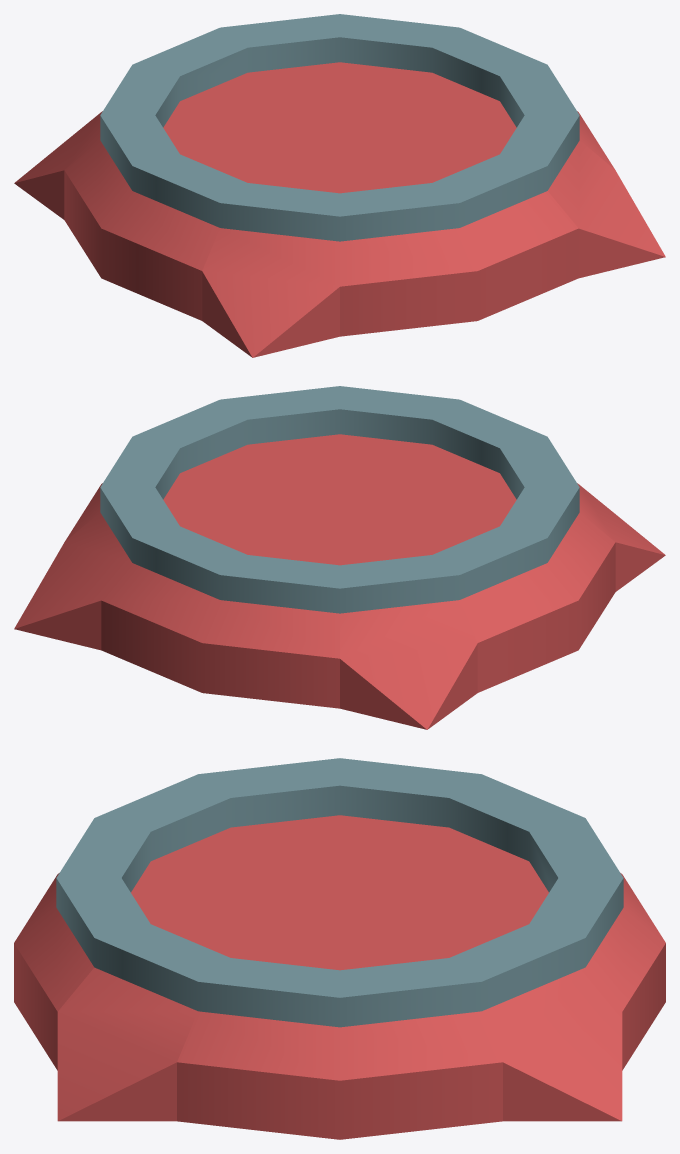
The model's file is TurretBase.fbx.
3 views of the same model, one above another, from view 1: azimuth 30°, elevation 25°; view 2: azimuth 150°, elevation 25°; view 3: azimuth 270°, elevation 25° (orthographic). The views are drawn at different scales.
Visible parts, largest first — view 1: towerRound_base; view 2: towerRound_base; view 3: towerRound_base.
Part boxes in pixels (<box>): towerRound_base: <box>14,14,665,357</box>; towerRound_base: <box>14,386,665,729</box>; towerRound_base: <box>14,758,665,1139</box>.
Size of the model in its own units: 39.37 by 8.27 by 39.37.
